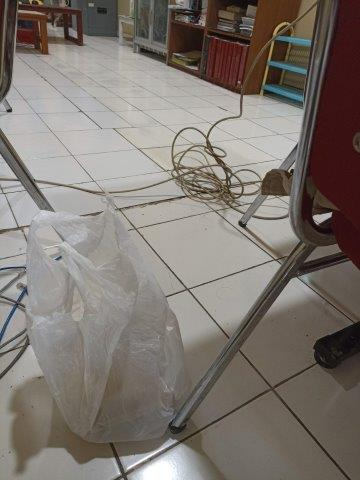plastik: (26, 210, 186, 443)
